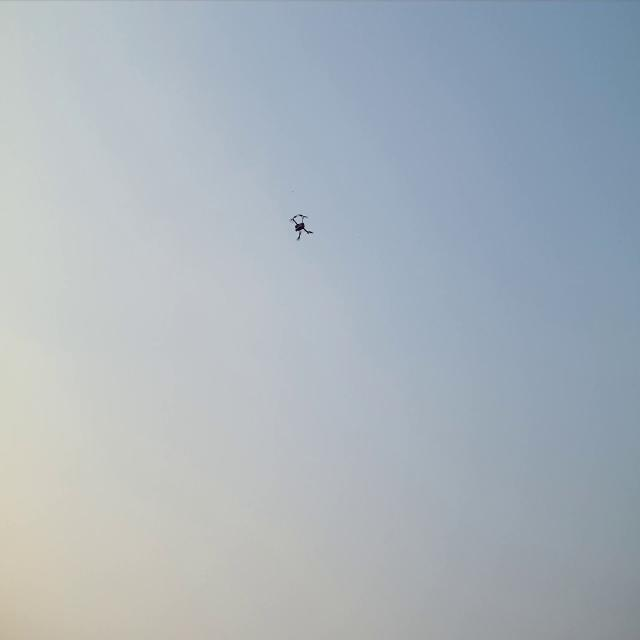UAV: (289, 210, 316, 241)
